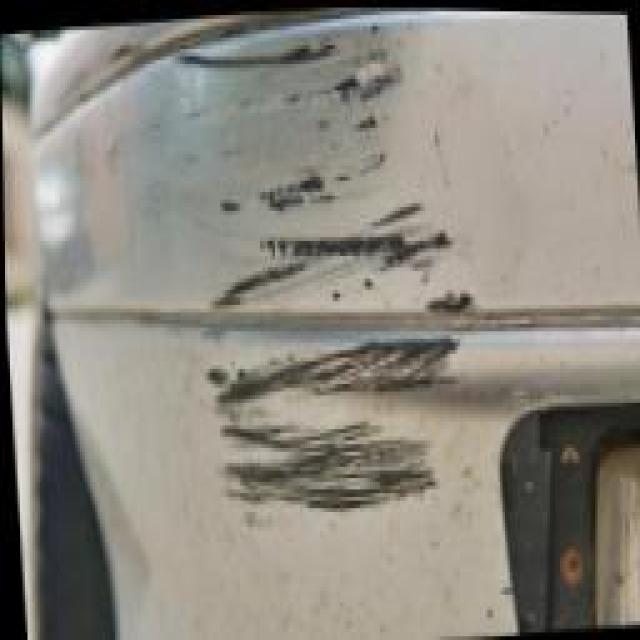Fender: (122, 8, 491, 579)
